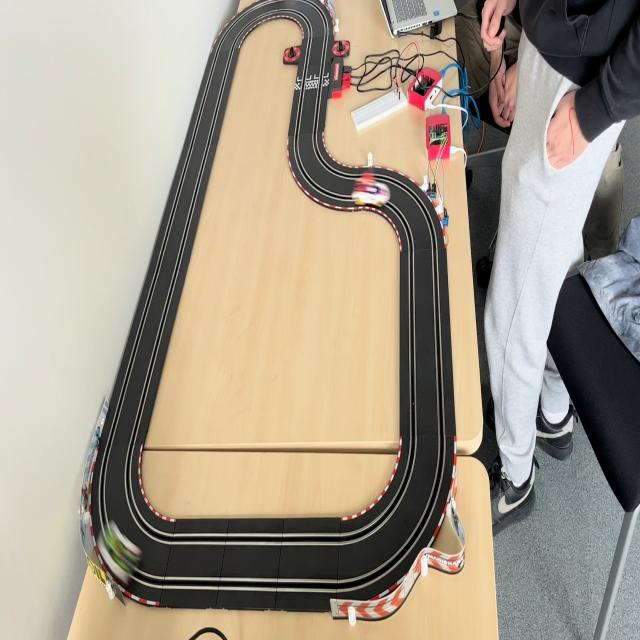mario: (352, 179, 393, 206)
yoshi: (98, 521, 147, 587)
